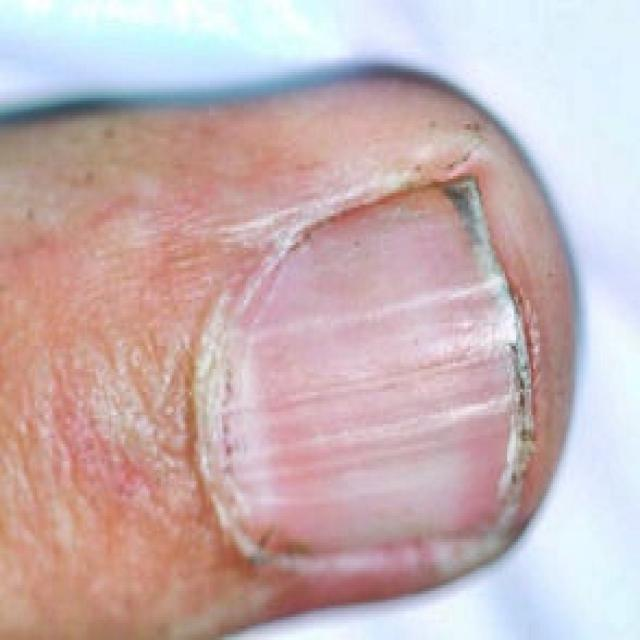Psoriasis-pictures-Lichen-Planus: (132, 144, 571, 591)
